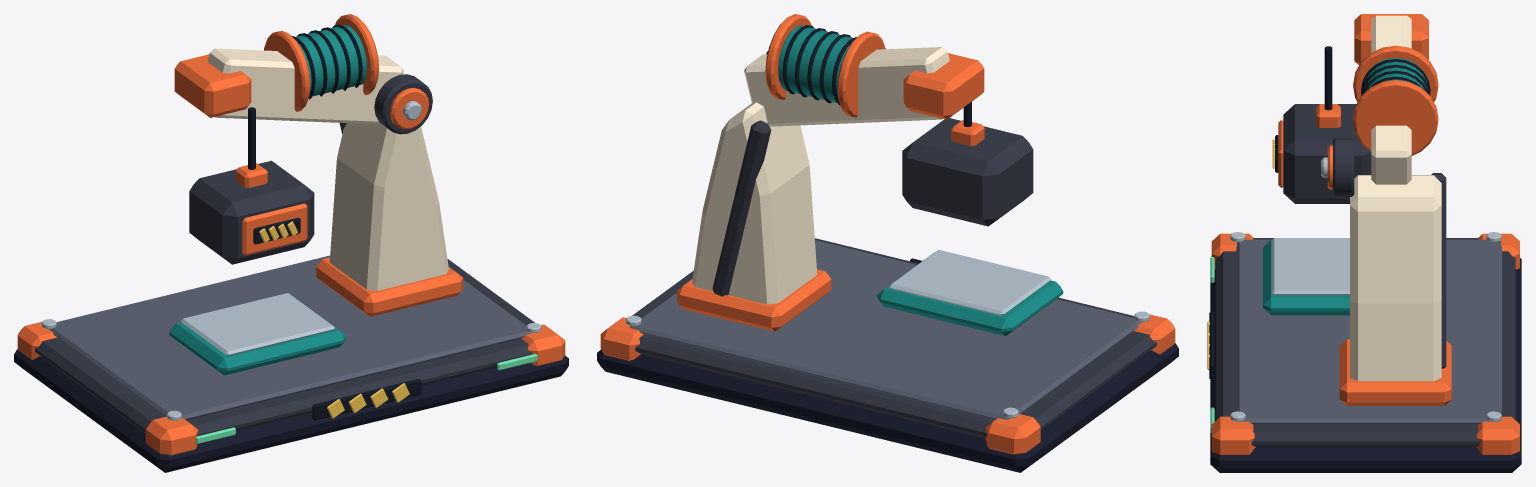
File: WreckingWinch.fbx
3 views of the same model, side by side, from view 1: azimuth 30°, elevation 25°; view 2: azimuth 150°, elevation 25°; view 3: azimuth 270°, elevation 25° (orthographic). The views are drawn at different scales.
Visible parts, largest first — view 1: Frame, DropWeight, WinchDrum; view 2: Frame, DropWeight, WinchDrum; view 3: Frame, WinchDrum, DropWeight, Cable.
Boxes of the visible parts, x1,y1,x2,y2 form: Frame: [14, 48, 568, 472]; DropWeight: [189, 160, 314, 264]; WinchDrum: [264, 14, 379, 111]; Frame: [597, 47, 1178, 472]; DropWeight: [902, 118, 1033, 226]; WinchDrum: [765, 14, 885, 117]; Frame: [1207, 14, 1521, 472]; WinchDrum: [1353, 45, 1438, 155]; DropWeight: [1272, 104, 1371, 203]; Cable: [1324, 46, 1332, 110].
Size of the model in its own units: 456 by 344 by 295.
Materials: 1 (1 with a texture image).
